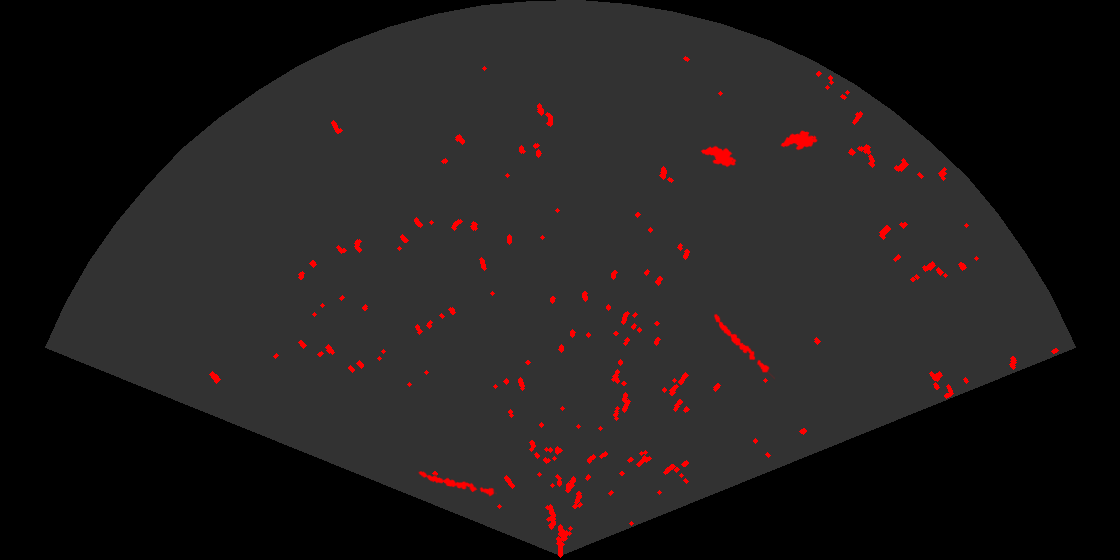AUV: (699, 144, 738, 169), (779, 129, 819, 152)
chain: (712, 312, 775, 381), (416, 470, 497, 498)
